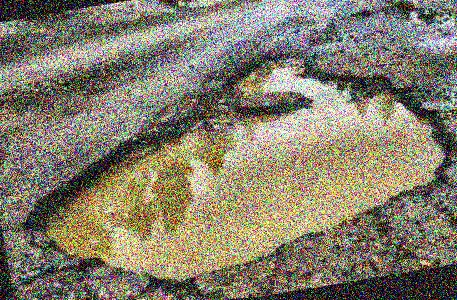pothole: (0, 24, 457, 300)
